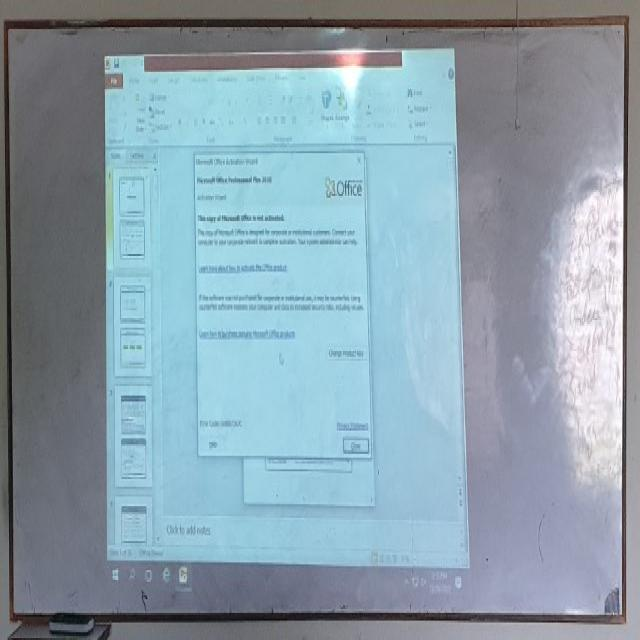Slide: (103, 39, 470, 595)
White-board: (7, 23, 627, 621)
